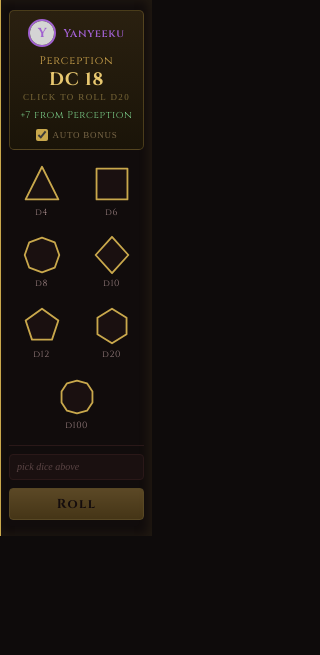
DiceTray — AC-007 auto-apply modifier › shows modifier label in history breakdown
The image size is (320, 655).
Click the button titled "d20": point(112, 333) [79,300,144,366]
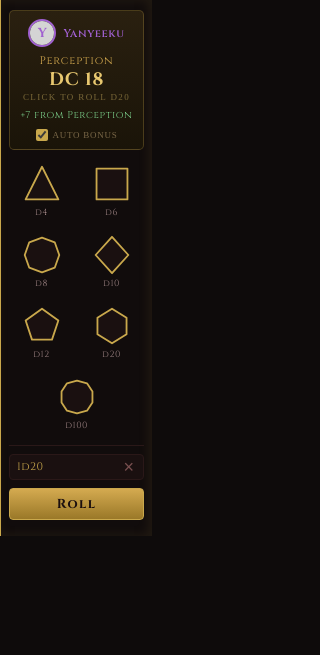
Click the button "Roll": point(76, 504) [9,488,144,520]
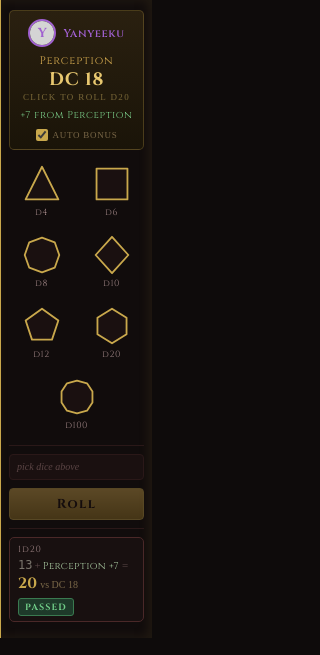
Expected: the text "Perception +7" is shown, [43,560,119,573]
